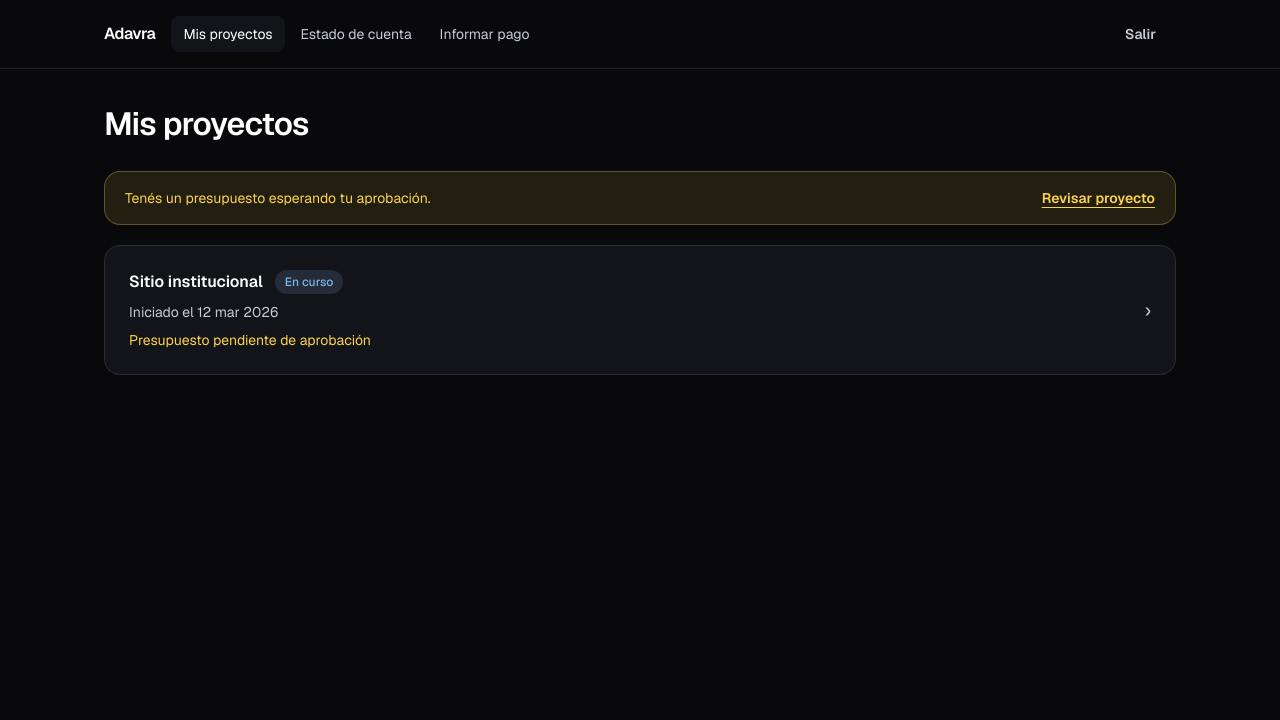
Test case: Mis proyectos › avisa sobre un presupuesto por aprobar y permite abrir el detalle del proyecto
Expected: the text "Tenés un presupuesto esperando tu aprobación." is shown, [125,188,431,208]
Expected: the text "En curso" is shown, [275,270,343,294]
Step 1. Click the link "Sitio institucional" → (196, 281), box [104,245,1176,375]
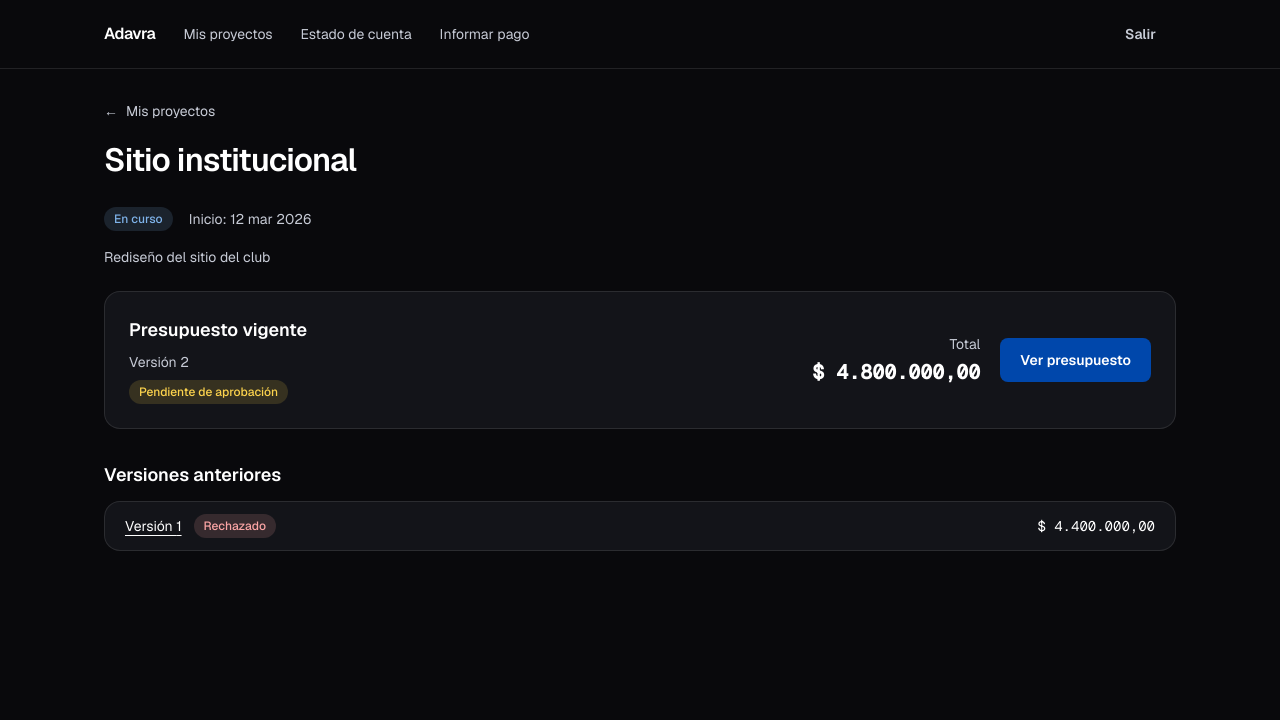
Expected: the heading "Sitio institucional" is shown, [104,139,356,180]
Expected: the text "Rediseño del sitio del club" is shown, [104,248,270,266]
Expected: the text "$ 4.800.000,00" is shown, [812,358,980,386]
